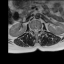CCS_normal: (35, 26, 37, 35)
LFS_normal: (39, 26, 41, 32)
LLS_normal: (37, 26, 39, 34)
RFS_normal: (31, 26, 33, 33)
RLS_normal: (33, 26, 35, 33)
